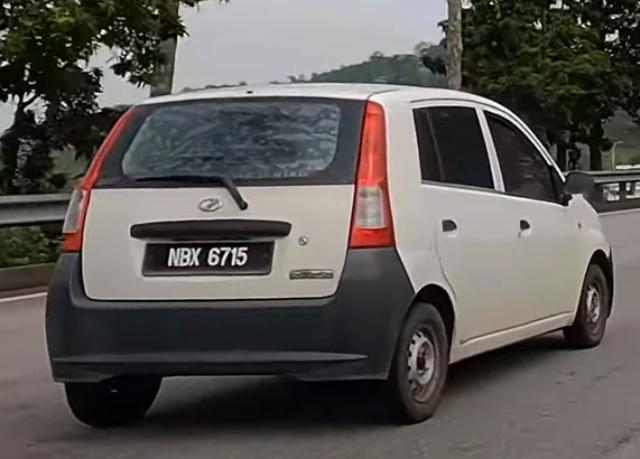License_Plate: (143, 239, 276, 278)
car: (45, 81, 615, 429)
